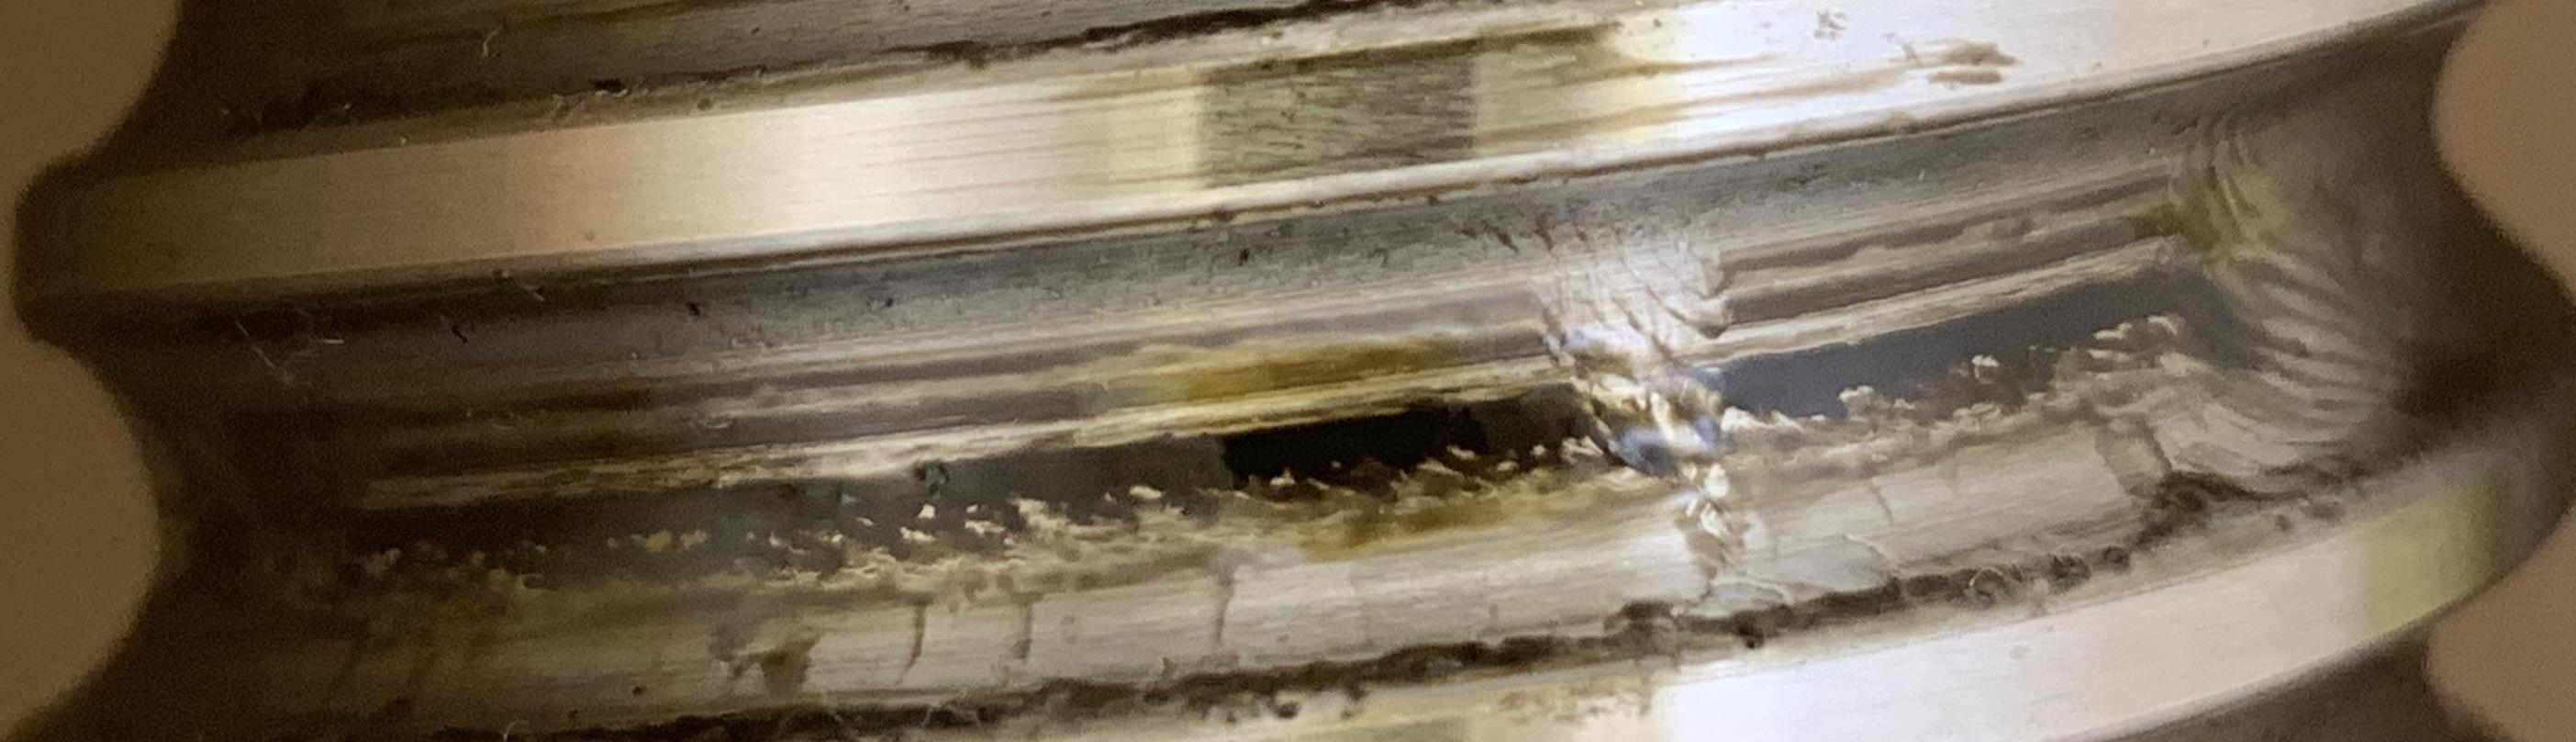pitting: (448, 321, 467, 345), (685, 301, 700, 314)
